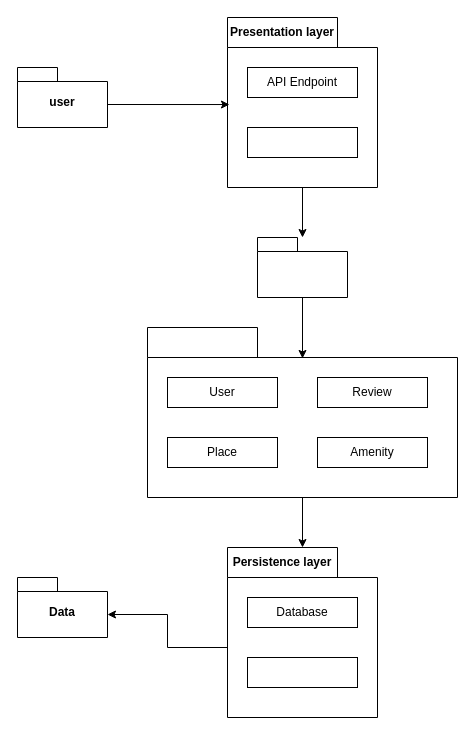
This 475x735 diagram has some shape labels left out. The box of each missing label's shape, as (x1, y1, x2, y2) in pixels:
Business layer: (146, 326, 458, 498)
Facade: (256, 236, 348, 298)
Repository: (246, 656, 358, 688)
Services: (246, 126, 358, 158)
